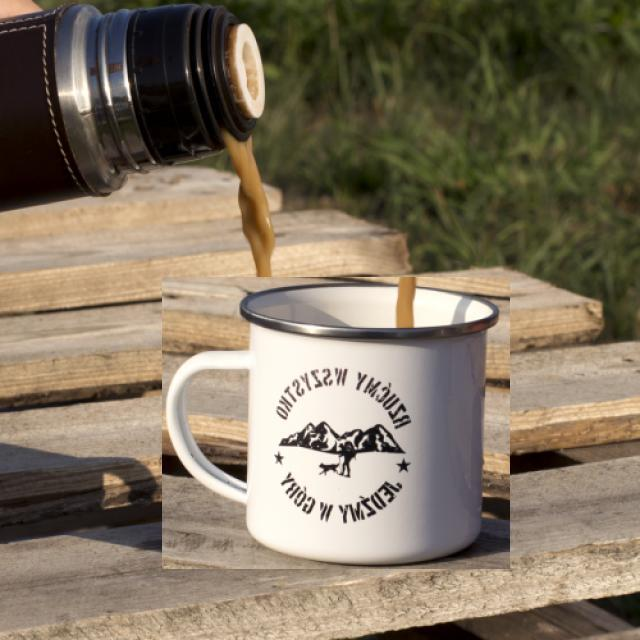Coffee Mug: (165, 289, 502, 565)
